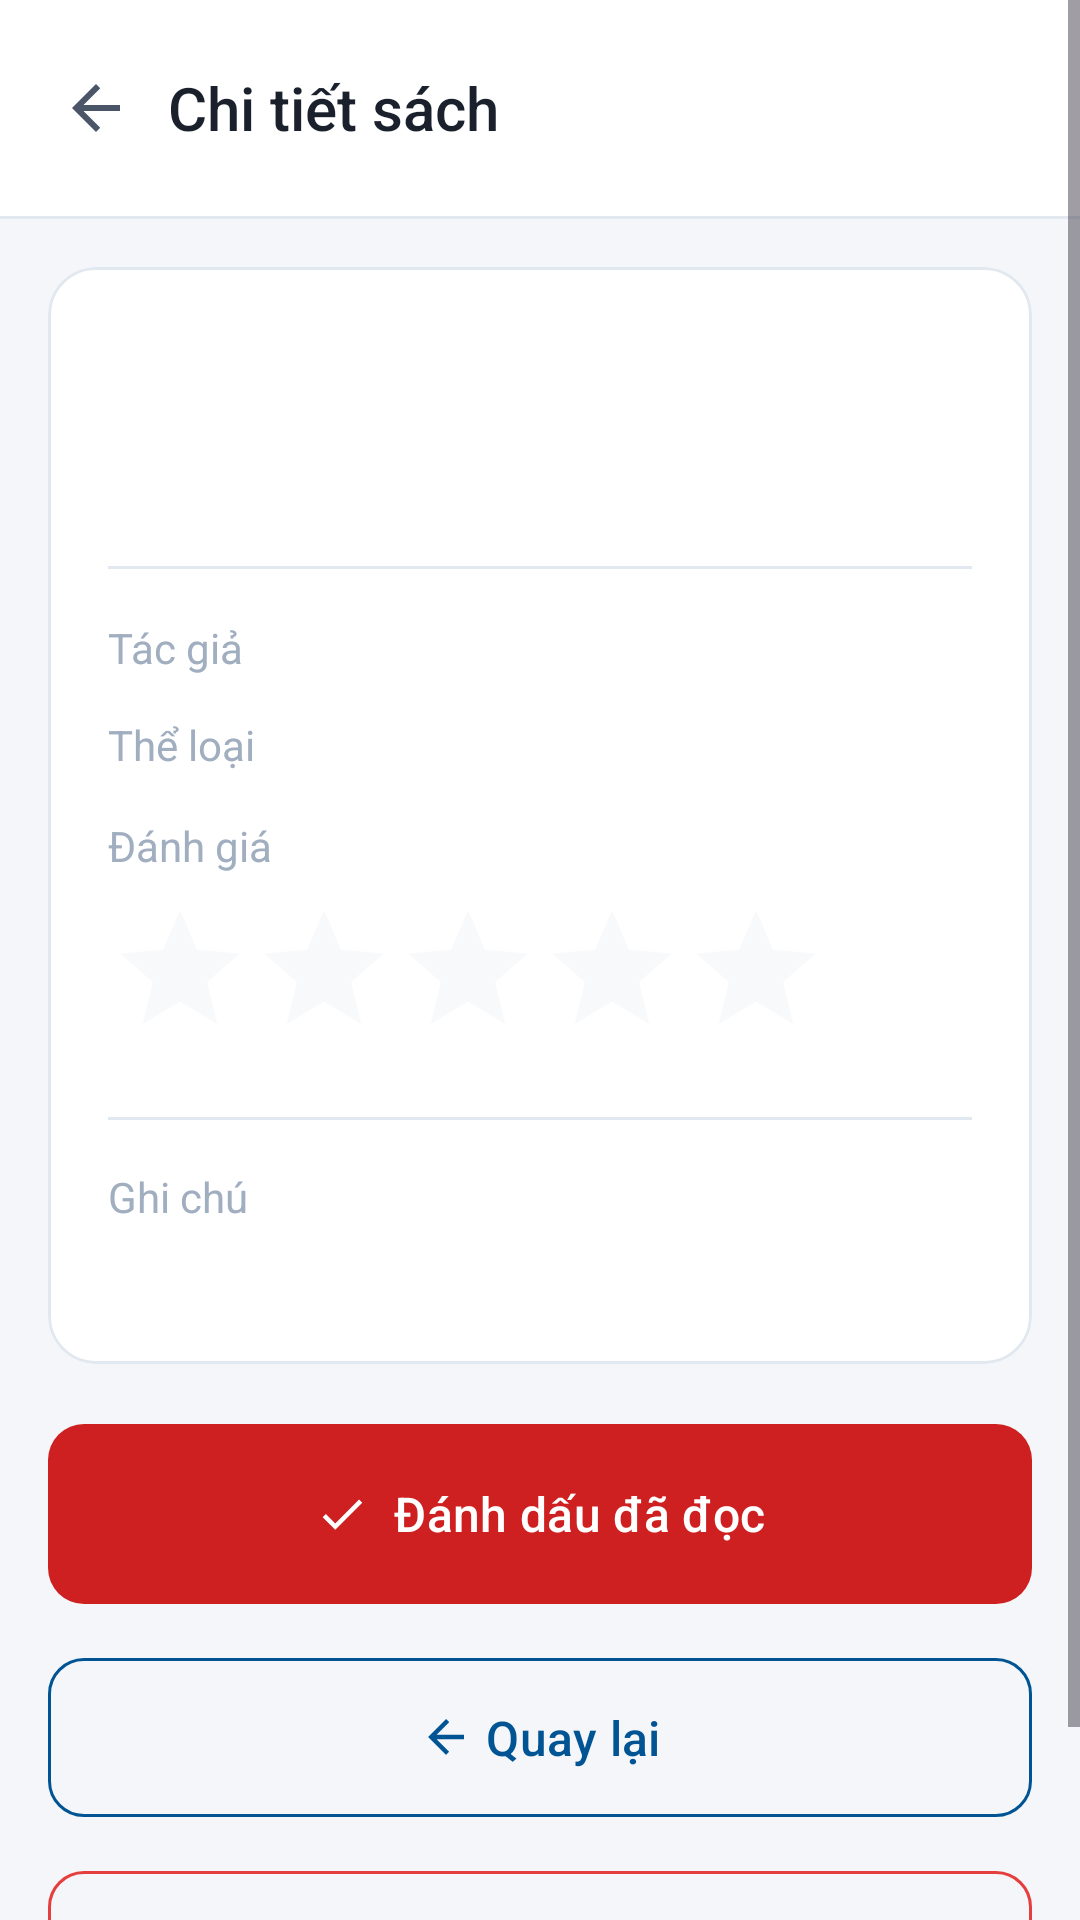

Where to tap for icons on this 1080 × 1920 app screen, as [x,y]:
Quay lại: [96,108]
